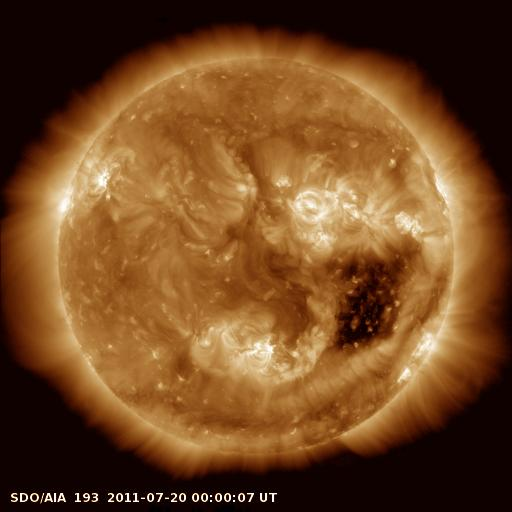coronal_hole: (317, 248, 415, 361)
